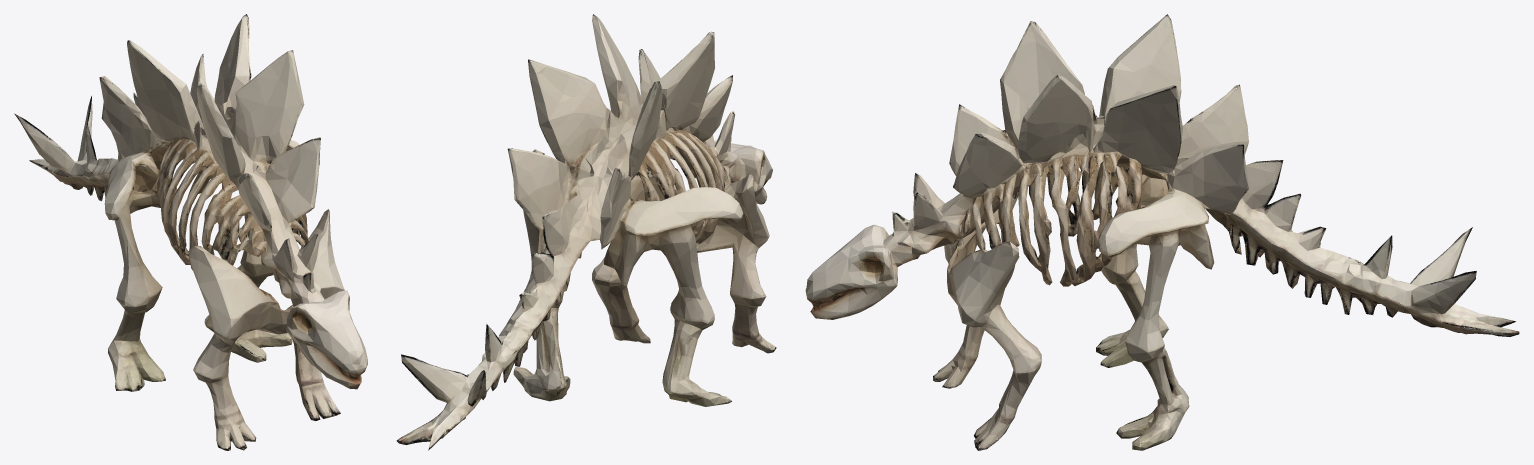
Rendered from stegosaurus-skjelett.glb.
3 views of the same model, side by side, from view 1: azimuth 30°, elevation 25°; view 2: azimuth 150°, elevation 25°; view 3: azimuth 270°, elevation 25° (orthographic). The views are drawn at different scales.
Parts seen in each view (by area): view 1: geometry_0; view 2: geometry_0; view 3: geometry_0.
Part boxes in pixels (x1=…): geometry_0: x1=14, y1=14, x2=367, y2=450; geometry_0: x1=396, y1=14, x2=776, y2=450; geometry_0: x1=805, y1=14, x2=1519, y2=450.
Bounding box in the file's own units: 0.3683 × 0.5717 × 0.9997.
1 material, 1 textured.
